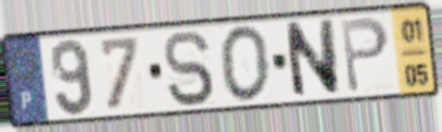7: (99, 34, 143, 114)
9: (48, 37, 96, 119)
N: (281, 16, 343, 102)
O: (217, 24, 273, 105)
P: (338, 14, 392, 96)
S: (161, 28, 217, 109)
